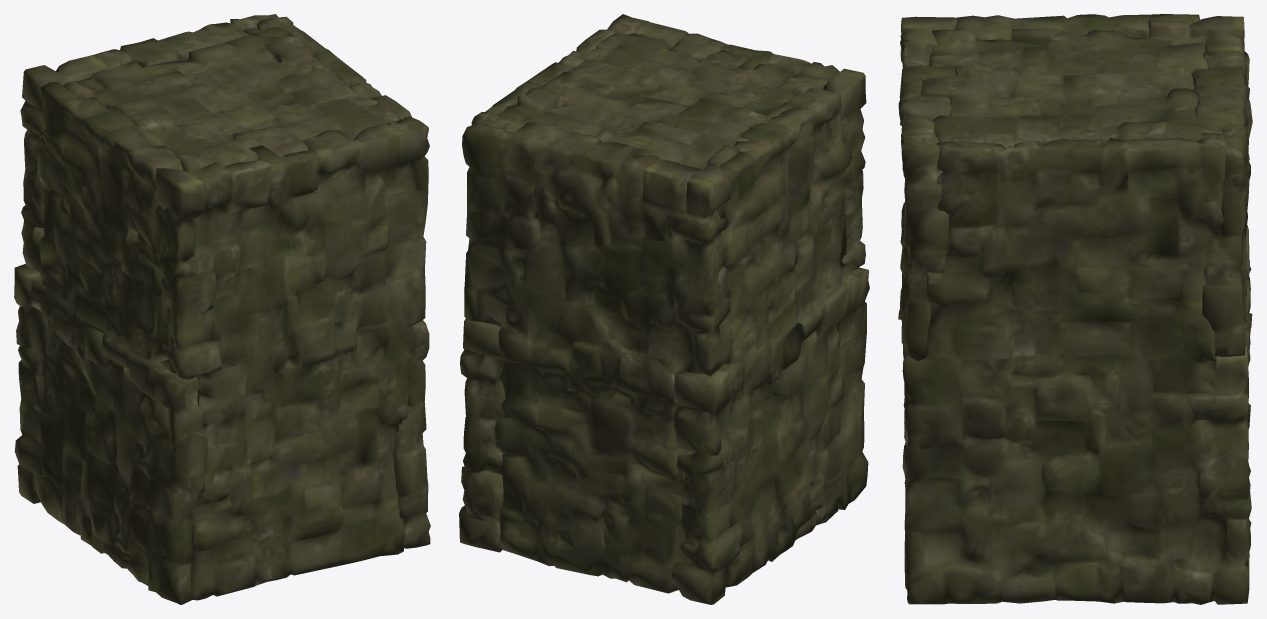
File: Ruins_TallWall-transformed.glb
3 renders of one model, left to right at view 1: azimuth 30°, elevation 25°; view 2: azimuth 150°, elevation 25°; view 3: azimuth 270°, elevation 25°, orthographic. The views are drawn at different scales.
Visible parts, largest first — view 1: Ruins_TallWall; view 2: Ruins_TallWall; view 3: Ruins_TallWall.
Boxes of the visible parts, left/top/right/bottom form: Ruins_TallWall: left=14, top=14, right=430, bottom=604; Ruins_TallWall: left=459, top=14, right=869, bottom=604; Ruins_TallWall: left=898, top=14, right=1252, bottom=604.
Bounding box in the file's own units: 4.66 × 7.3 × 5.
Materials: 1 (1 with a texture image).
